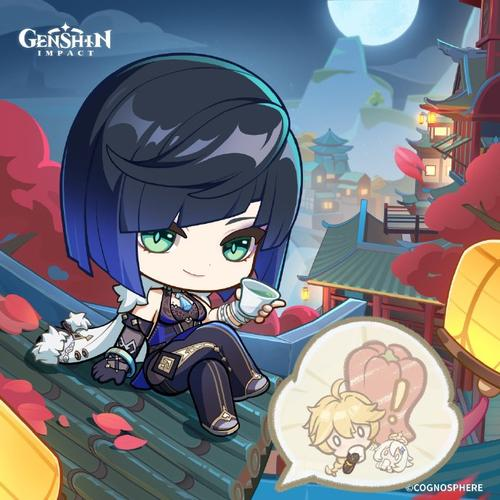夜兰: (48, 51, 309, 435)
